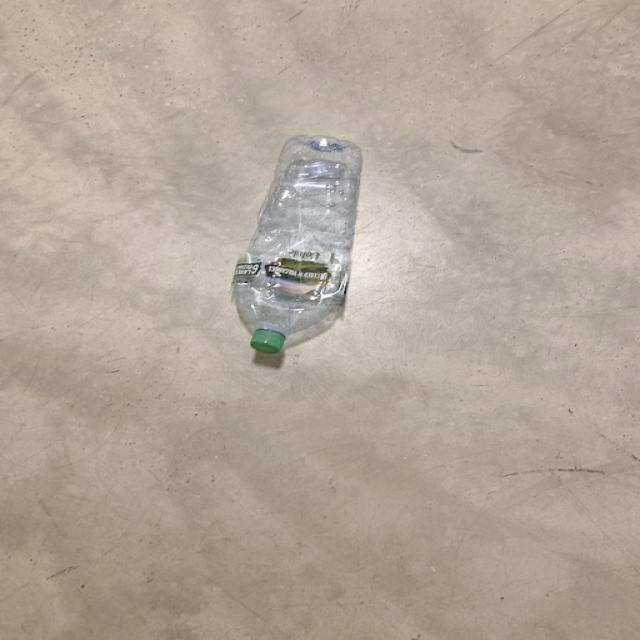bottle: (231, 135, 362, 354)
